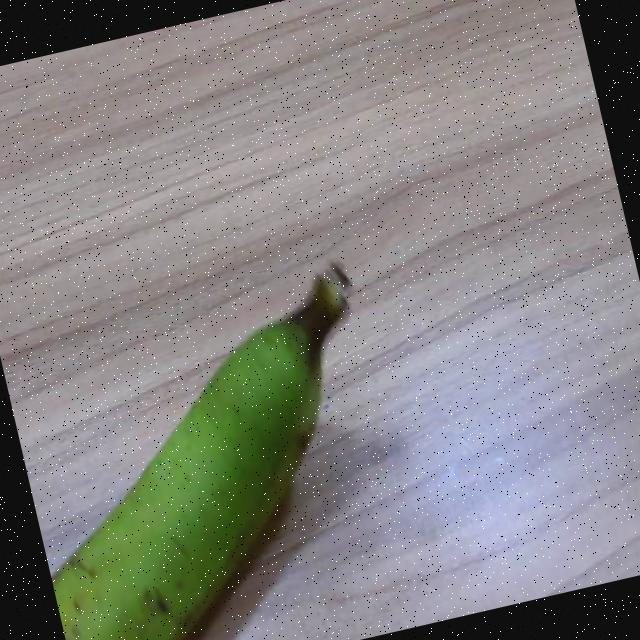Raw: (0, 229, 435, 640)
